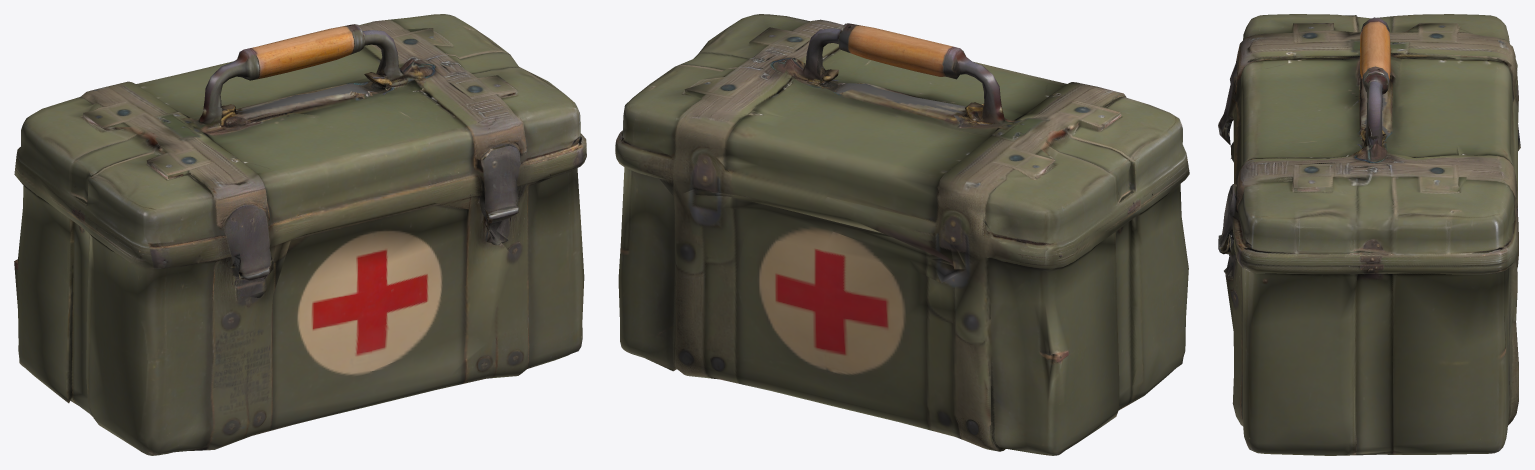
File: Health_Case_Big.fbx
The picture shows the model from 3 angles, left to right: view 1: azimuth 30°, elevation 25°; view 2: azimuth 150°, elevation 25°; view 3: azimuth 270°, elevation 25°; orthographic projection. The views are drawn at different scales.
Visible parts, largest first — view 1: input; view 2: input; view 3: input.
Part boxes in pixels (x1=…): input: x1=14, y1=14, x2=586, y2=455; input: x1=615, y1=14, x2=1189, y2=455; input: x1=1218, y1=14, x2=1520, y2=455.
Bounding box in the file's own units: 200 × 139 × 120.
Materials: 1 (1 with a texture image).
